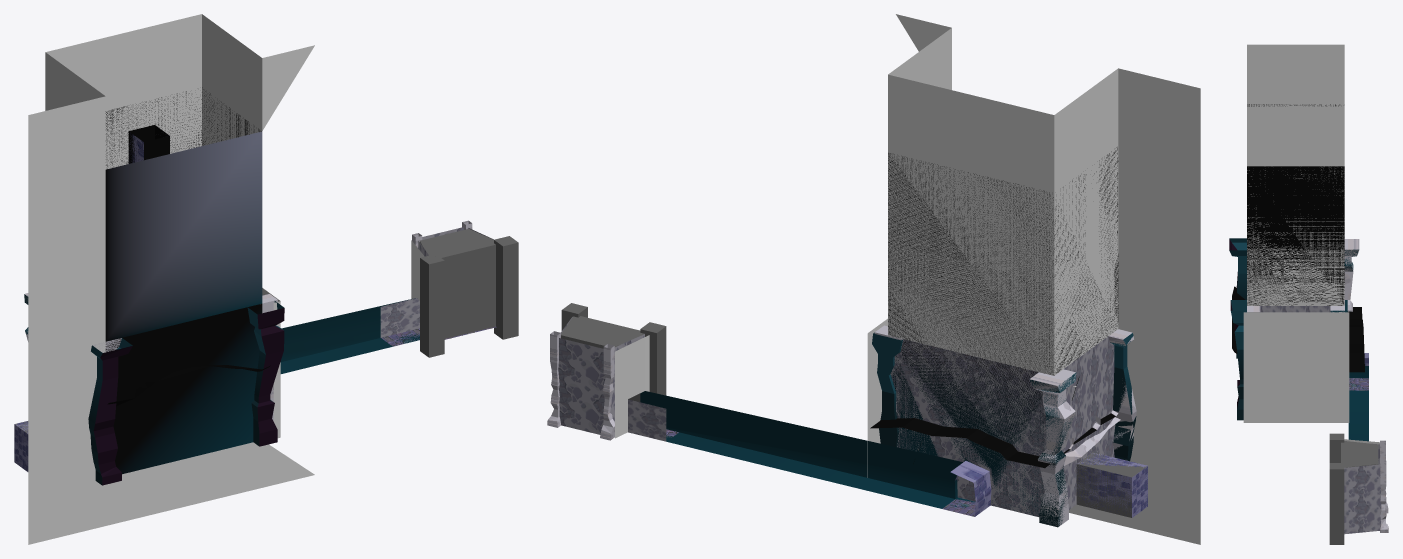
The model's file is jin_06.dae.
3 renders of one model, left to right at view 1: azimuth 30°, elevation 25°; view 2: azimuth 150°, elevation 25°; view 3: azimuth 270°, elevation 25°, orthographic. The views are drawn at different scales.
Parts seen in each view (by area): view 1: MASUKU, A_kabe, a_hasira, S_kabe_part1, a_gawa02, polySurface1067, polySurface1069, a_hari, kakusi_part0, polySurface1064; view 2: MASUKU, S_kabe_part1, A_kabe, S_kabe_part0, polySurface1069, kakusi_part0, a_hasira, polySurface42_q035, polySurface1064, a_be, kakusi1, a_hari (+5 smaller); view 3: A_kabe, MASUKU, pPlane9, S_kabe_part1, kakusi_part0, a_hasira, polySurface1067, polySurface1069, a_hari, a_gawa02, polySurface42_q035, polySurface42_q036 (+2 smaller).
Part boxes in pixels (left/top/right/bottom): MASUKU: left=28, top=14, right=314, bottom=544; A_kabe: left=105, top=87, right=262, bottom=474; a_hasira: left=24, top=294, right=284, bottom=485; S_kabe_part1: left=105, top=87, right=261, bottom=169; a_gawa02: left=420, top=229, right=495, bottom=338; polySurface1067: left=420, top=236, right=518, bottom=357; polySurface1069: left=280, top=298, right=419, bottom=373; a_hari: left=107, top=125, right=270, bottom=406; kakusi_part0: left=380, top=227, right=493, bottom=337; polySurface1064: left=14, top=421, right=28, bottom=471; MASUKU: left=888, top=14, right=1200, bottom=544; S_kabe_part1: left=888, top=146, right=1118, bottom=375; A_kabe: left=888, top=147, right=1118, bottom=516; S_kabe_part0: left=890, top=336, right=1115, bottom=516; polySurface1069: left=640, top=391, right=975, bottom=508; kakusi_part0: left=558, top=317, right=666, bottom=441; a_hasira: left=872, top=332, right=1136, bottom=527; polySurface42_q035: left=874, top=325, right=1136, bottom=526; polySurface1064: left=1076, top=453, right=1147, bottom=517; a_be: left=1076, top=452, right=1146, bottom=517; kakusi1: left=615, top=335, right=649, bottom=438; a_hari: left=870, top=413, right=1115, bottom=468; A_kabe: left=1247, top=104, right=1344, bottom=305; MASUKU: left=1247, top=44, right=1344, bottom=166; pPlane9: left=1243, top=312, right=1349, bottom=422; S_kabe_part1: left=1247, top=104, right=1344, bottom=305; kakusi_part0: left=1344, top=441, right=1381, bottom=534; a_hasira: left=1229, top=238, right=1358, bottom=420; polySurface1067: left=1329, top=433, right=1344, bottom=544; polySurface1069: left=1348, top=366, right=1368, bottom=441; a_hari: left=1232, top=286, right=1364, bottom=372; a_gawa02: left=1341, top=441, right=1378, bottom=467; polySurface42_q035: left=1247, top=239, right=1359, bottom=312; polySurface42_q036: left=1380, top=440, right=1388, bottom=532.
Bounding box in the file's own units: 104 × 78.71 × 32.63.
